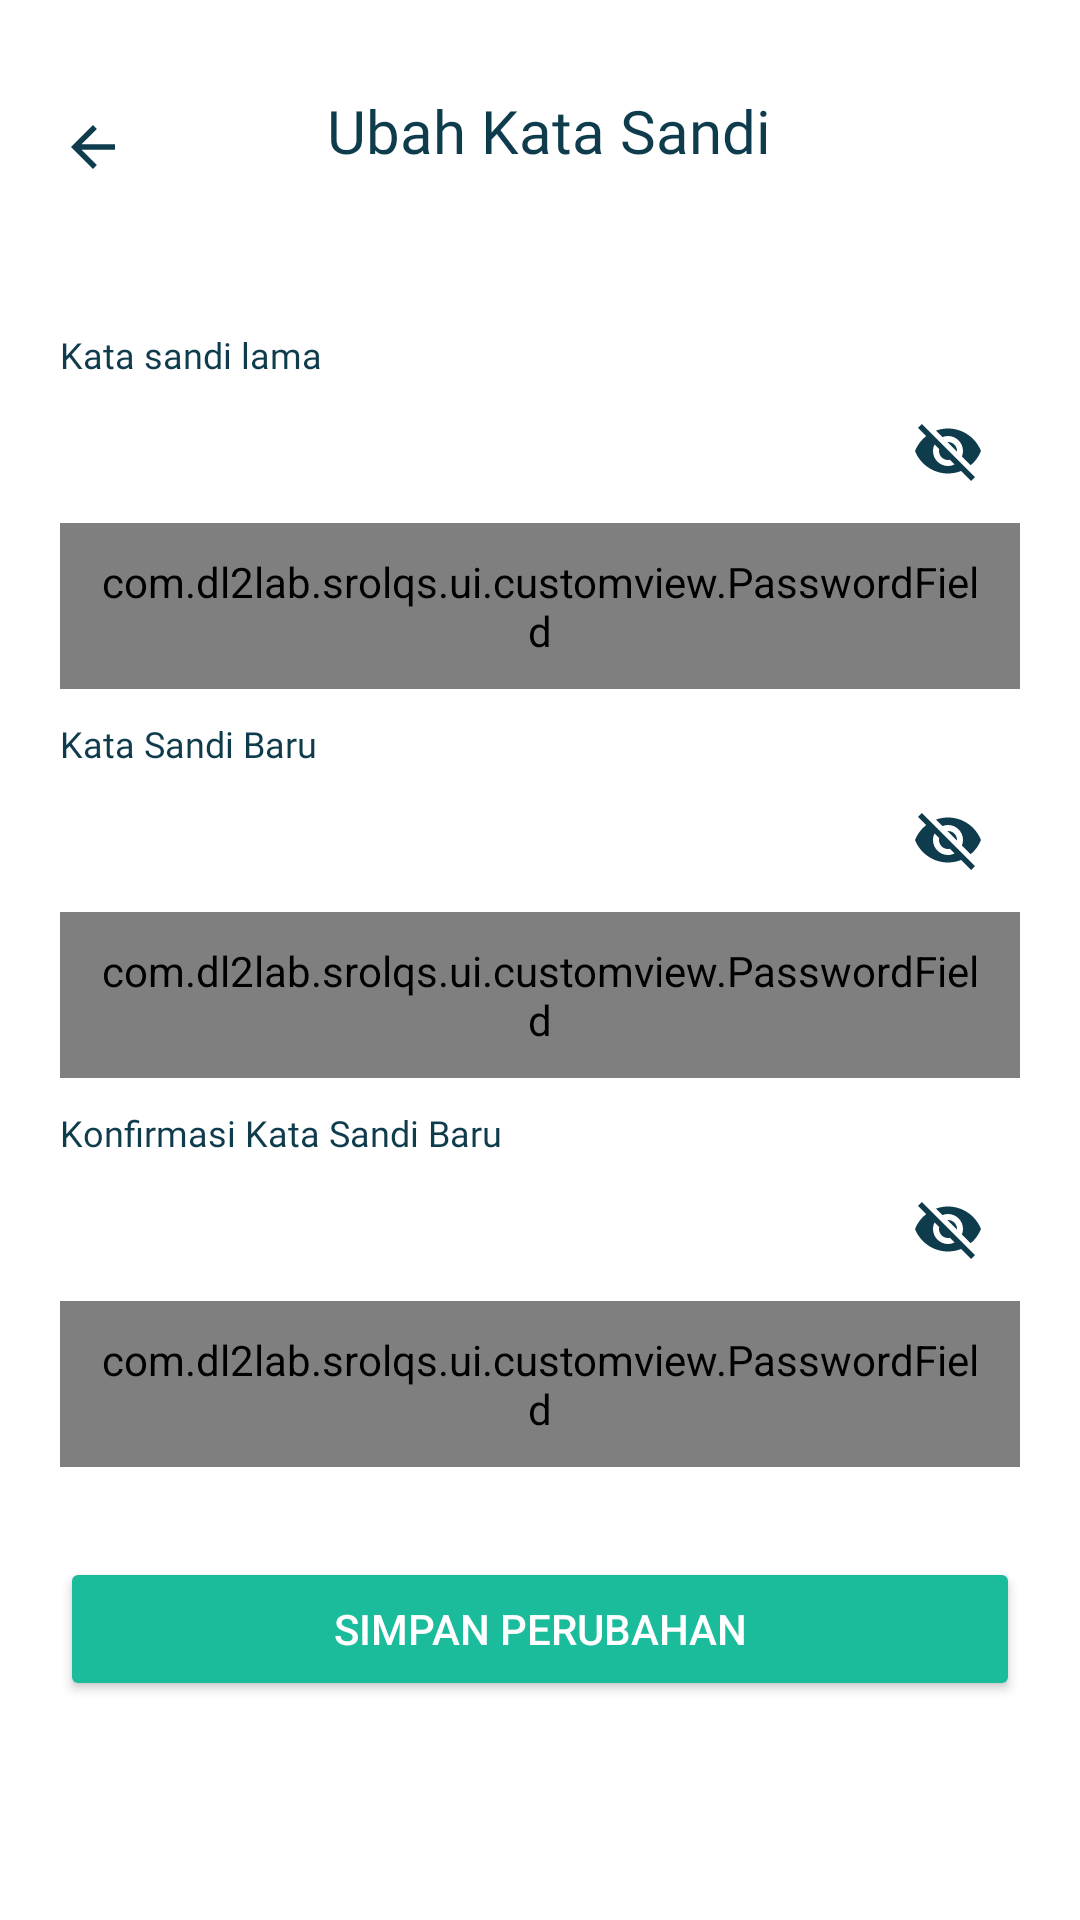

Named icons in this screenshot (1080px×1920px) and their centers, (x=x, y=y):
arrow back: (x=93, y=147)
